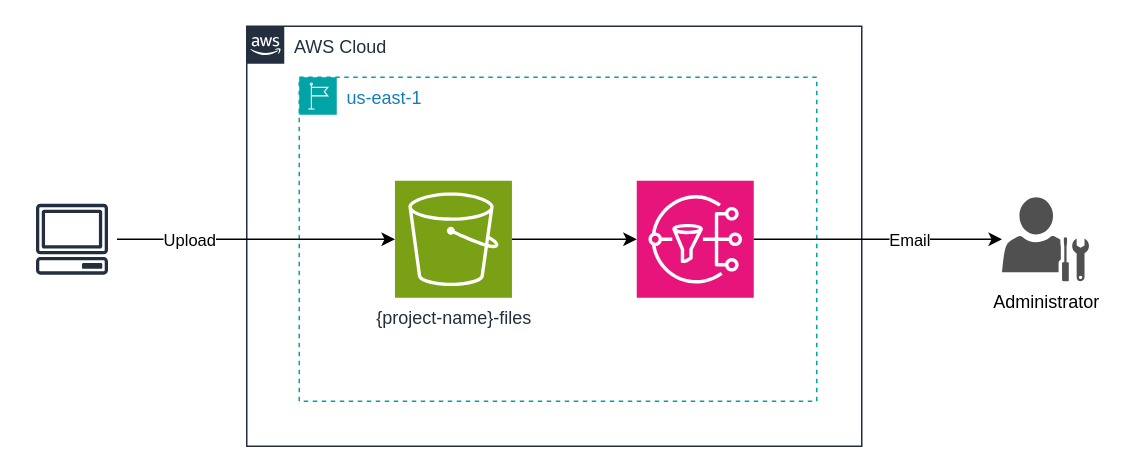
This 1124x473 diagram has some shape labels left out. Here are the shapes that lost their labels. From the top down, the centre of each, then its label:
pixel 71 238: Client
pixel 694 238: {project-name}-adm-notifier
